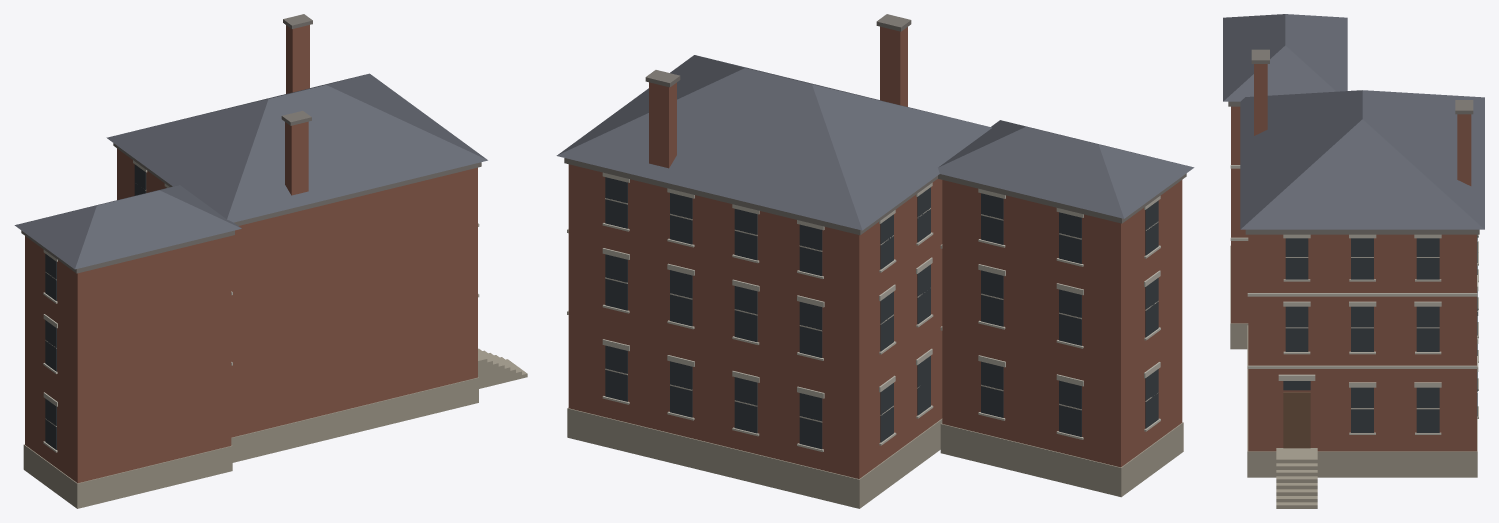
File: george_glessner_house_1706_prairie__draft_1904.glb
3 renders of one model, left to right at view 1: azimuth 30°, elevation 25°; view 2: azimuth 150°, elevation 25°; view 3: azimuth 270°, elevation 25°, orthographic. The views are drawn at different scales.
Parts seen in each view (by area): view 1: george_glessner_house_1706_prairie__draft_1904; view 2: george_glessner_house_1706_prairie__draft_1904; view 3: george_glessner_house_1706_prairie__draft_1904.
Boxes of the visible parts, bbox=[...] form: george_glessner_house_1706_prairie__draft_1904: bbox=[14, 14, 527, 508]; george_glessner_house_1706_prairie__draft_1904: bbox=[556, 14, 1194, 508]; george_glessner_house_1706_prairie__draft_1904: bbox=[1223, 14, 1484, 508].
Size of the model in its own units: 24.9 by 16.12 by 11.45.
